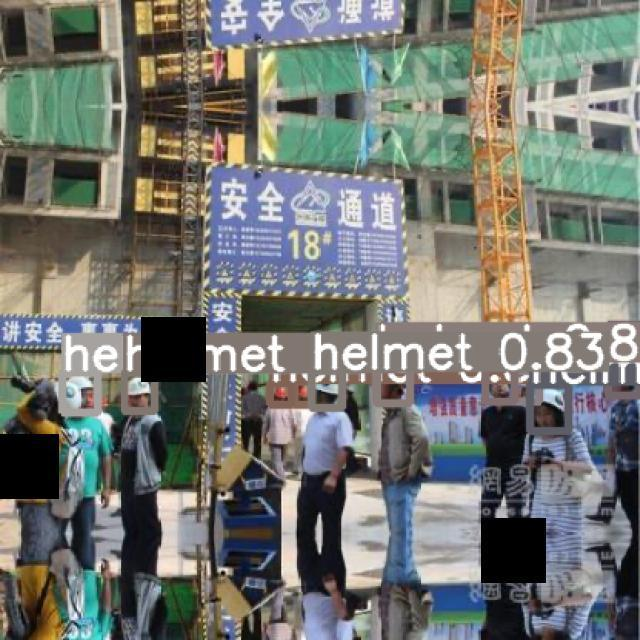helmet: (127, 377, 151, 396)
